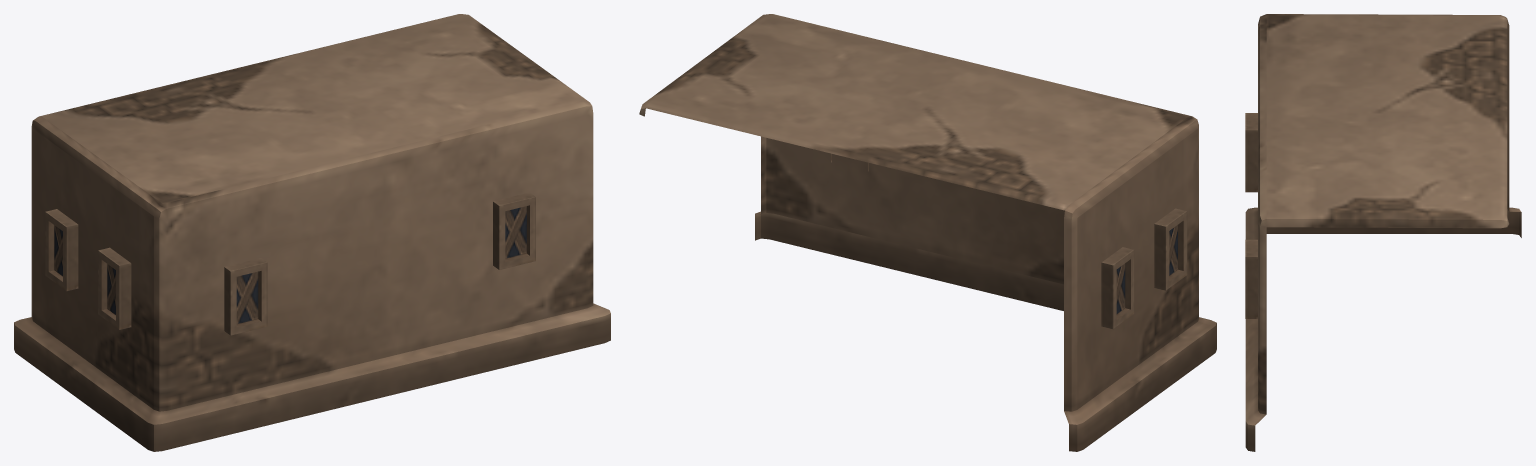
The model's file is handle_wasteland_house_1.FBX.
3 renders of one model, left to right at view 1: azimuth 30°, elevation 25°; view 2: azimuth 150°, elevation 25°; view 3: azimuth 270°, elevation 25°, orthographic. The views are drawn at different scales.
Visible parts, largest first — view 1: handle_wasteland_house_1; view 2: handle_wasteland_house_1; view 3: handle_wasteland_house_1.
Part boxes in pixels (x1,y1,x2,y2): handle_wasteland_house_1: [14, 14, 610, 451]; handle_wasteland_house_1: [639, 14, 1216, 451]; handle_wasteland_house_1: [1245, 14, 1521, 451].
Bounding box in the file's own units: 167 × 81.59 × 89.14.
